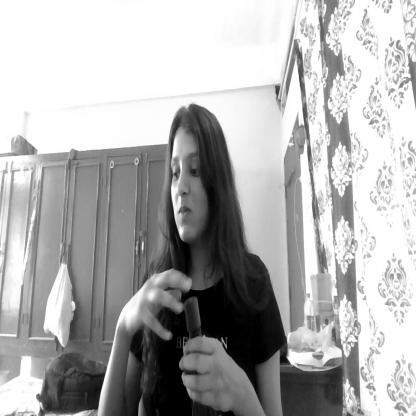Distracted: (164, 107, 226, 256)
